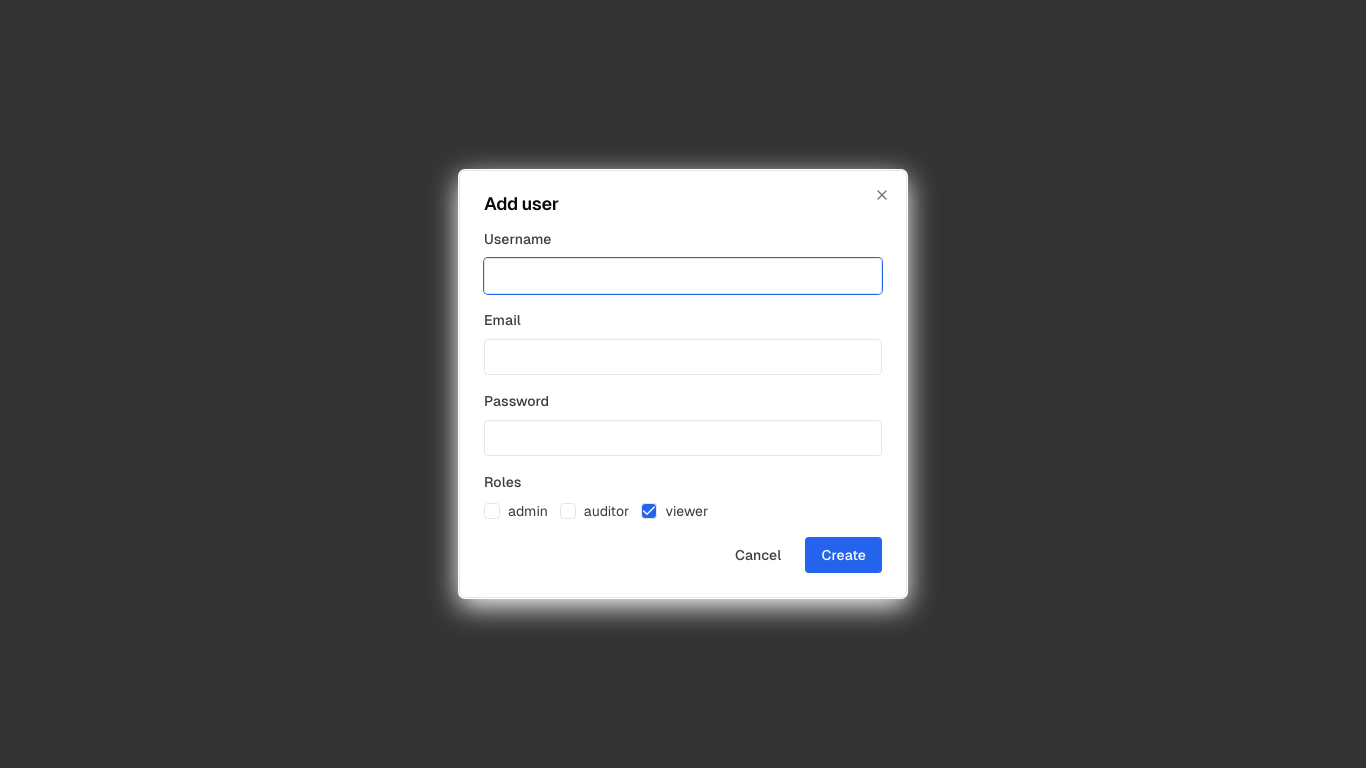
it: UsersDialog — add validation › rejects a malformed email via zod (form is noValidate, so zod is authoritative)
The width and height of the screenshot is (1366, 768).
Type "bob" into the field labelled "Username" at point(683, 276), box [484,258,882,294]
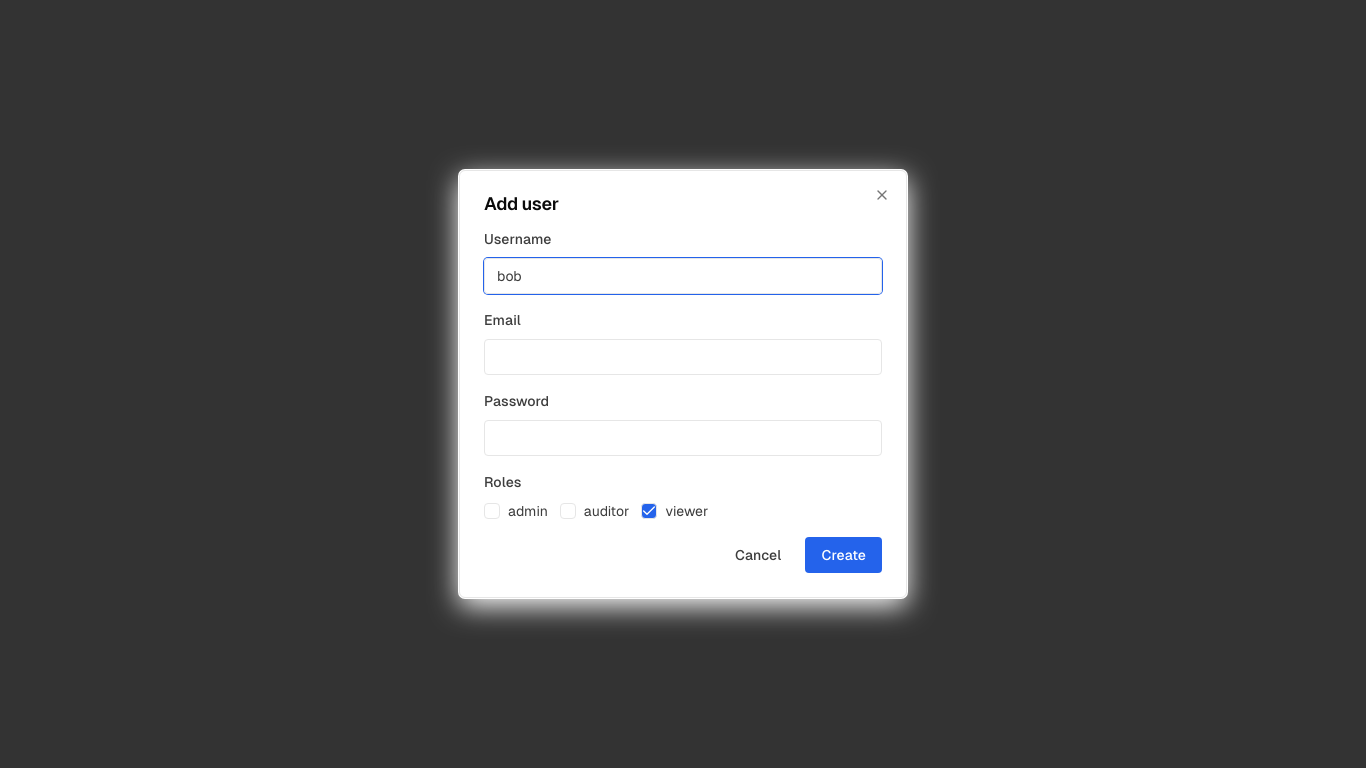
Type "pw" into the password field labelled "Password" at point(683, 438), box [484,420,882,456]
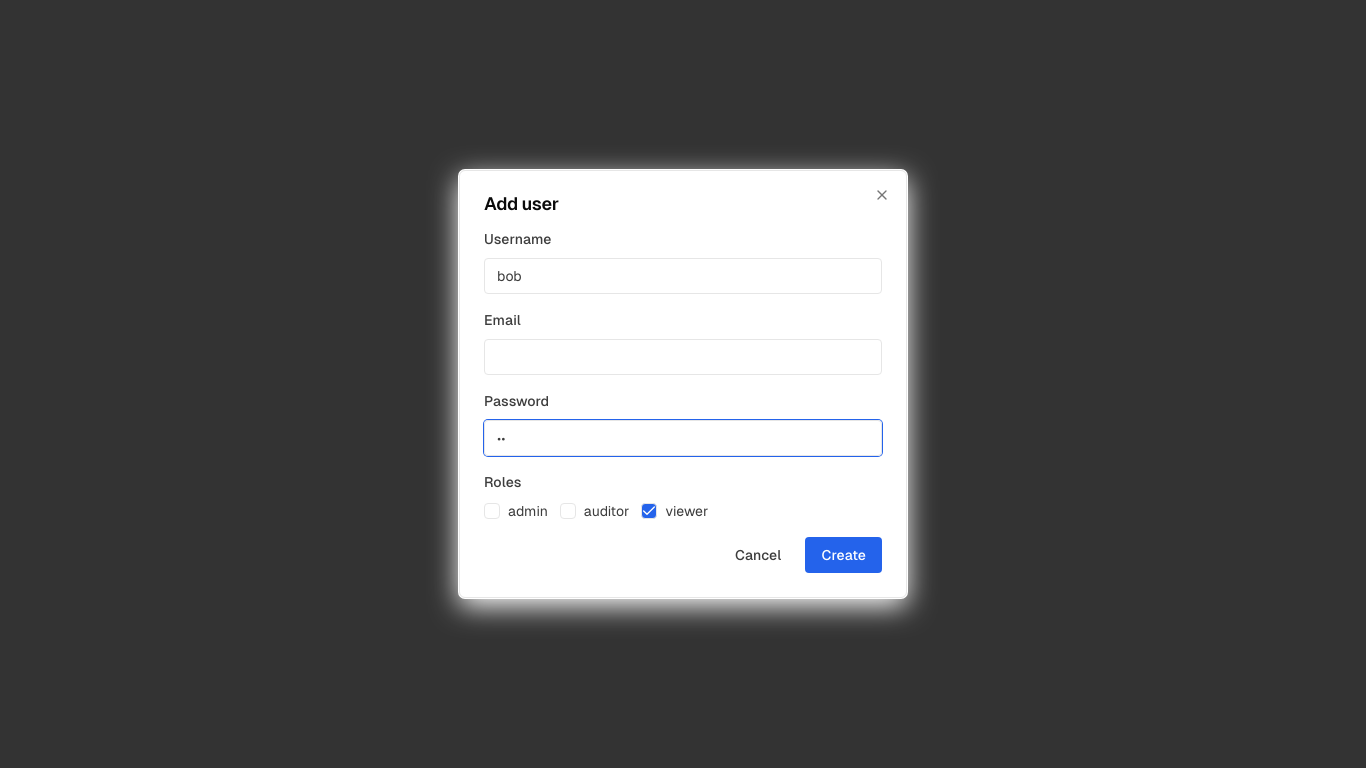
Type "not-an-email" into the field labelled "Email" at point(683, 357), box [484,339,882,375]
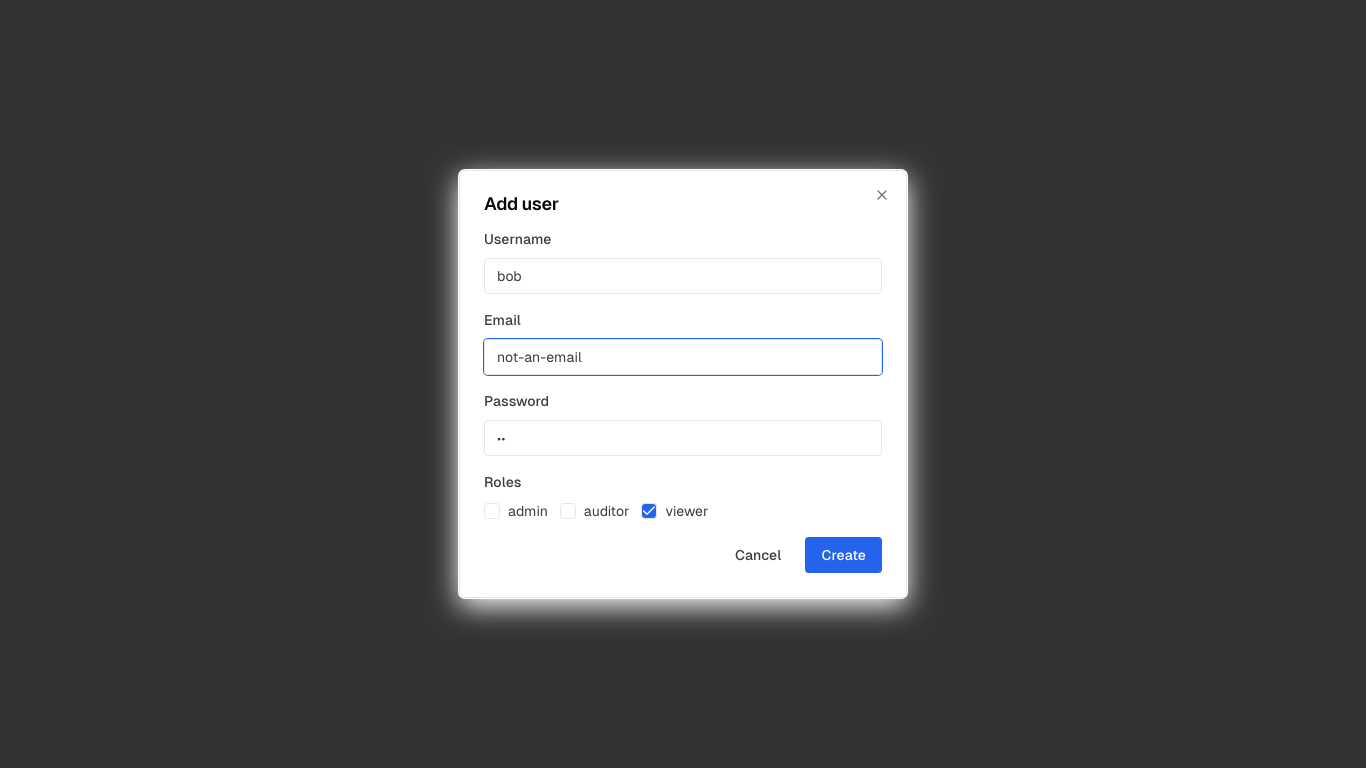
Click the button "Create" at point(844, 555), box [805,537,882,573]
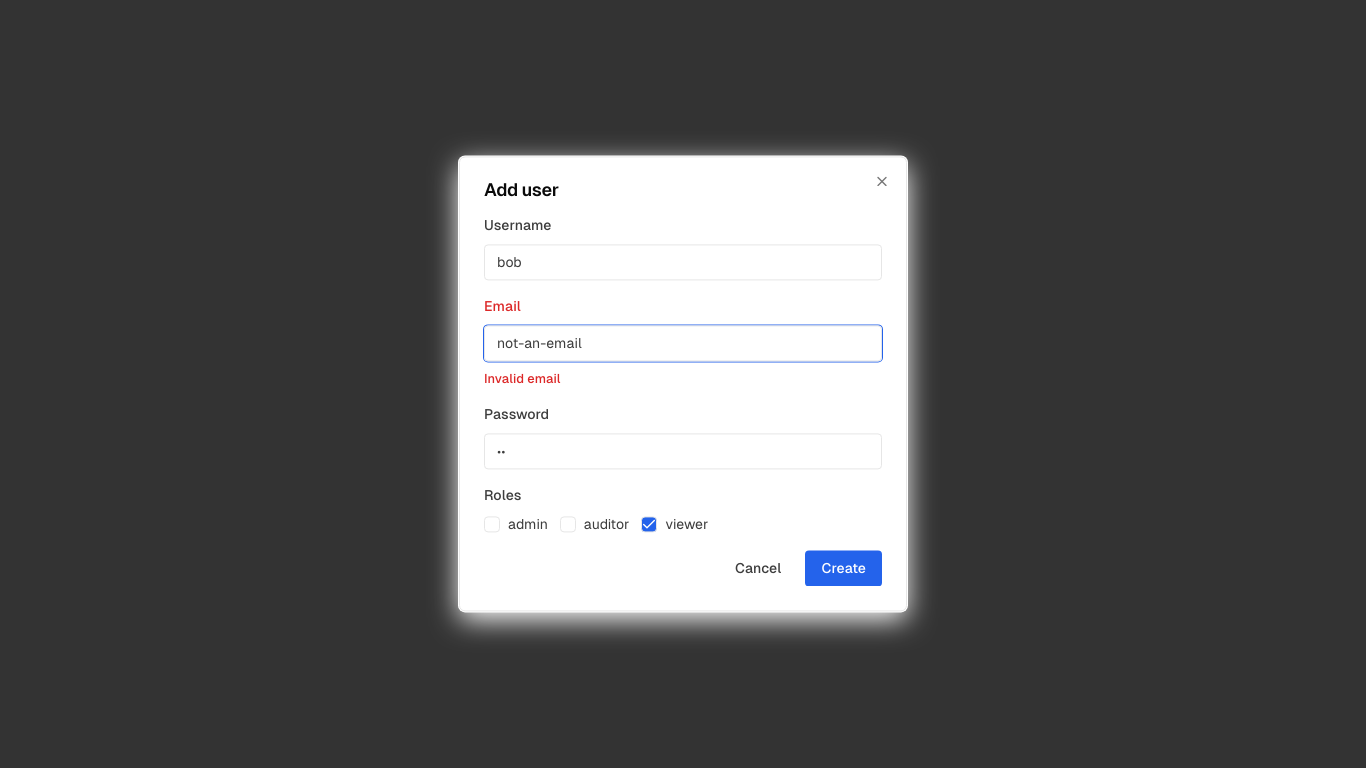
Expected: the text "Invalid email" is shown, [484,371,561,386]
